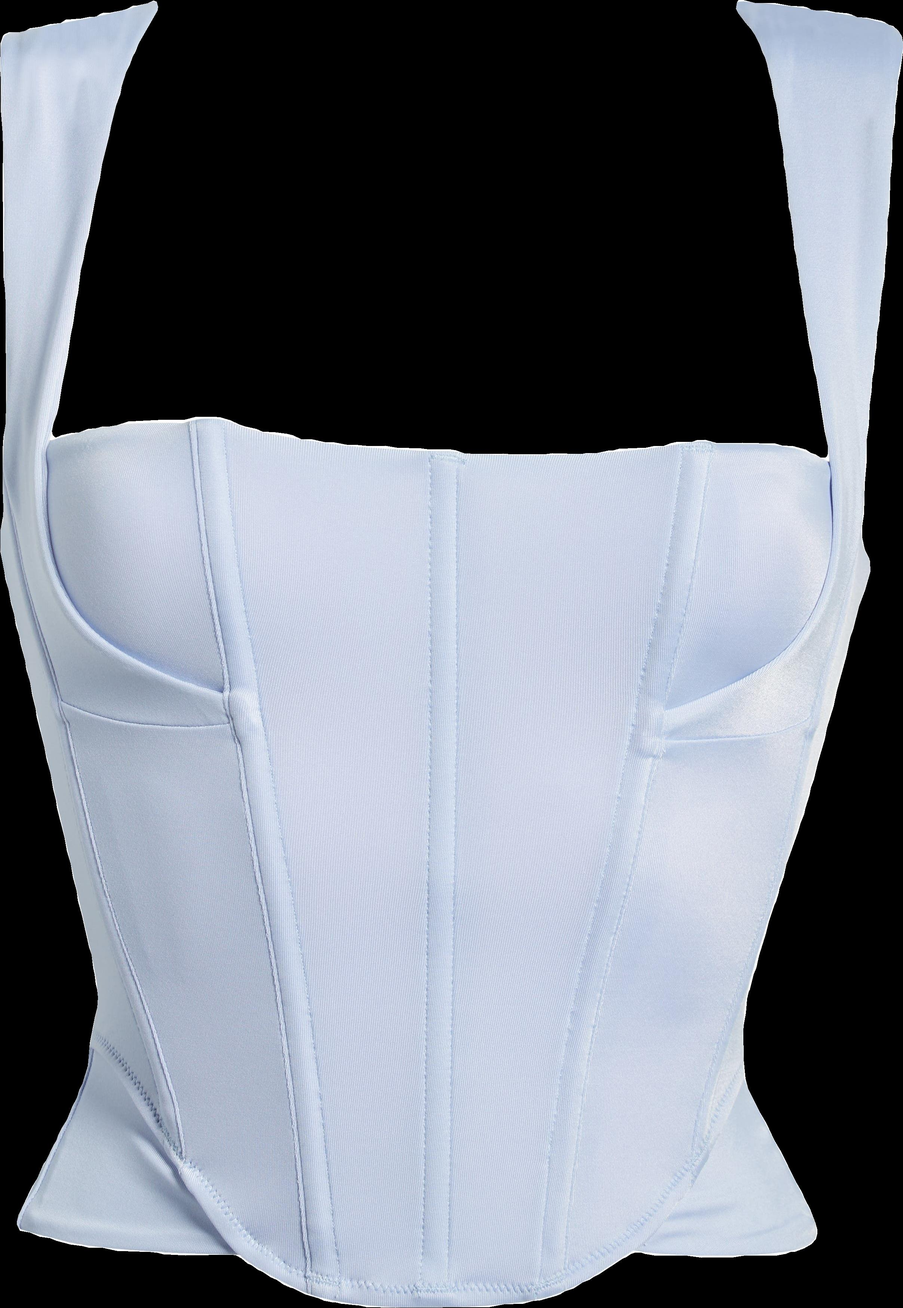Bodice: (1, 0, 902, 1305)
Neckline: (42, 0, 838, 473), (34, 432, 345, 1302), (522, 465, 838, 1307)
Waistline: (12, 1218, 822, 1308)
